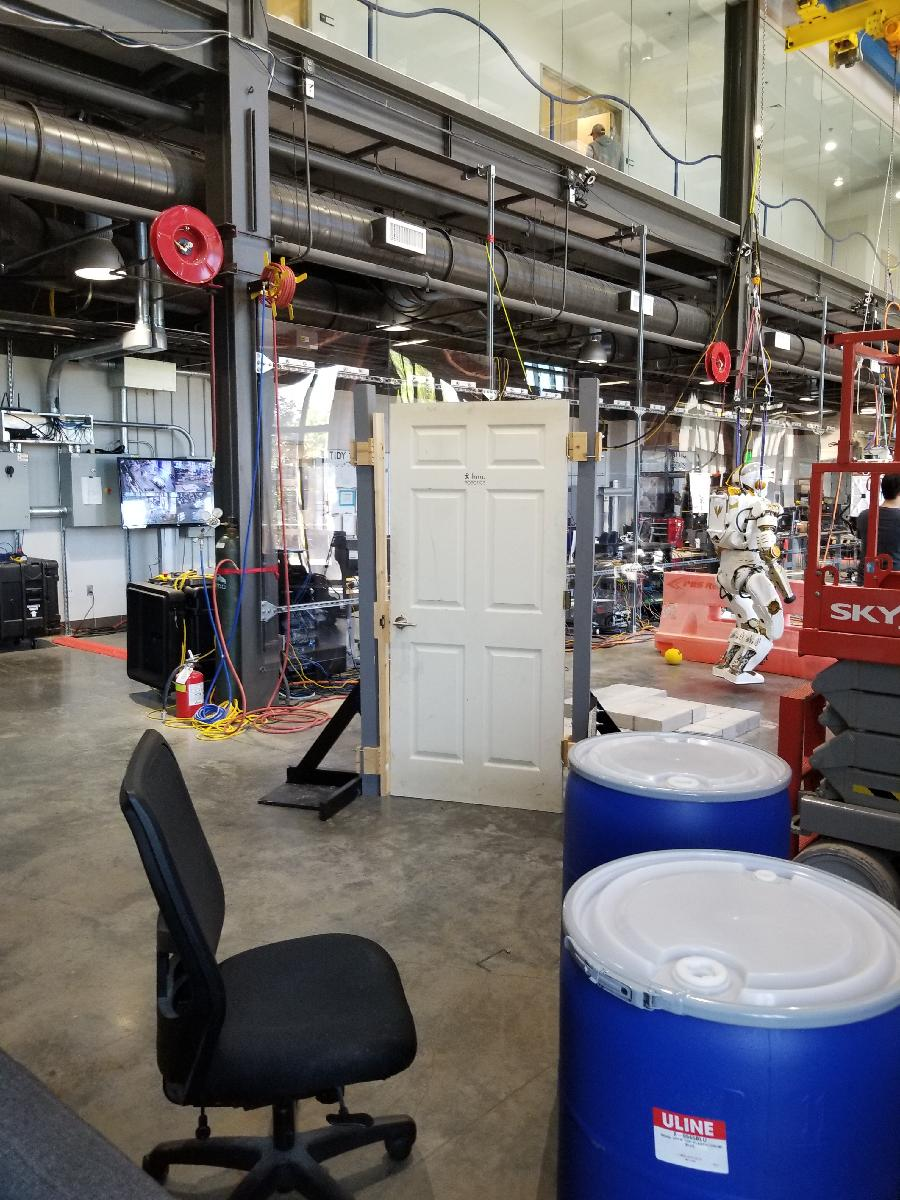door: (385, 399, 567, 819)
doorHandle: (390, 615, 421, 636)
